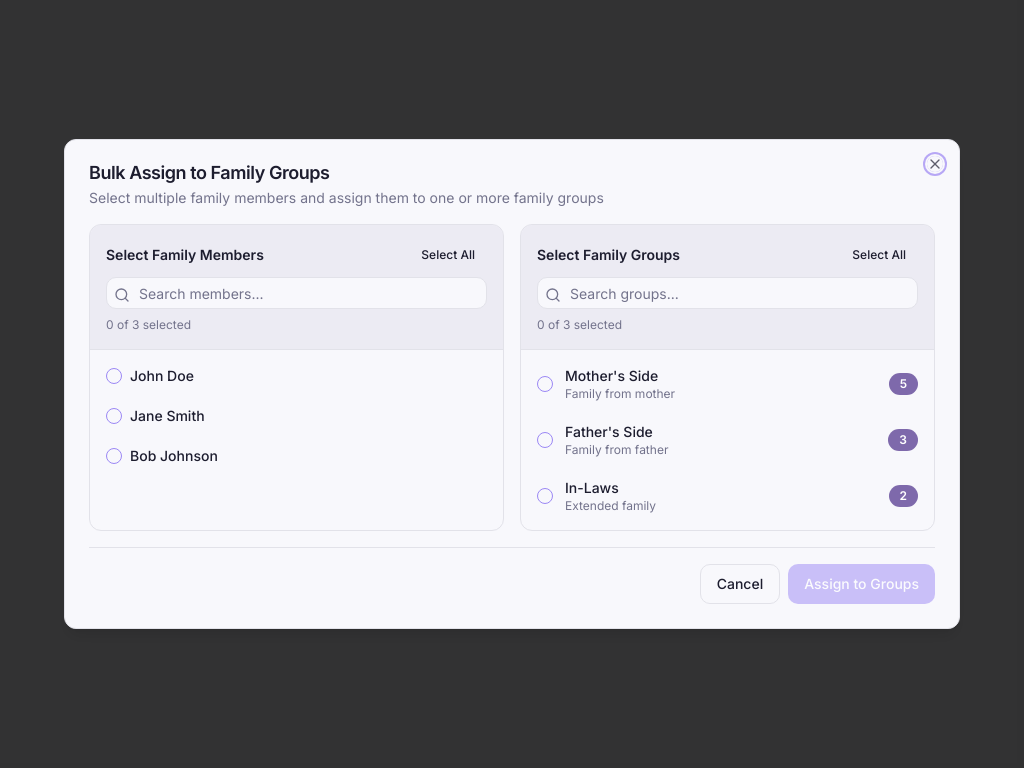
BulkAssignToGroupDialog › Member Selection › should select all members when select all is clicked
Expected: the text "John Doe" is shown, [130,367,194,384]
Step 1. Click the button "Select All" next to "Select Family Members" → point(448, 255), box [409,241,487,269]
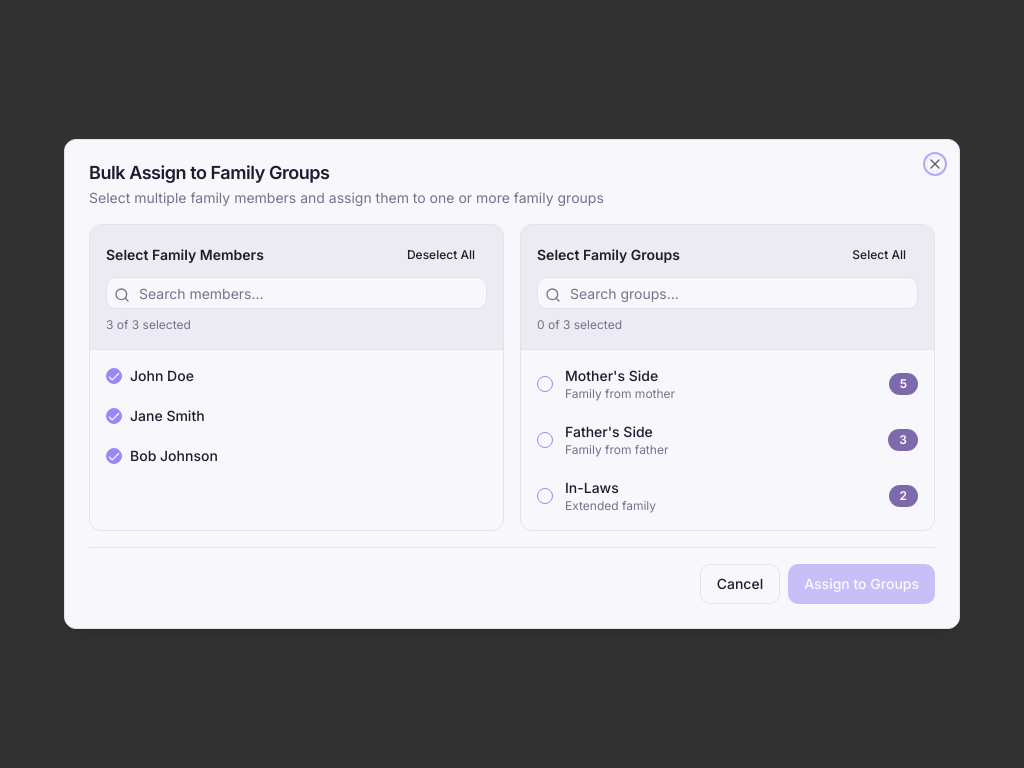
Result: the checkbox in the row of "Doe" is checked at [106,368,122,384]
Result: the checkbox next to "Jane" is checked at [106,408,122,424]
Result: the checkbox next to "Bob" is checked at [106,448,122,464]
